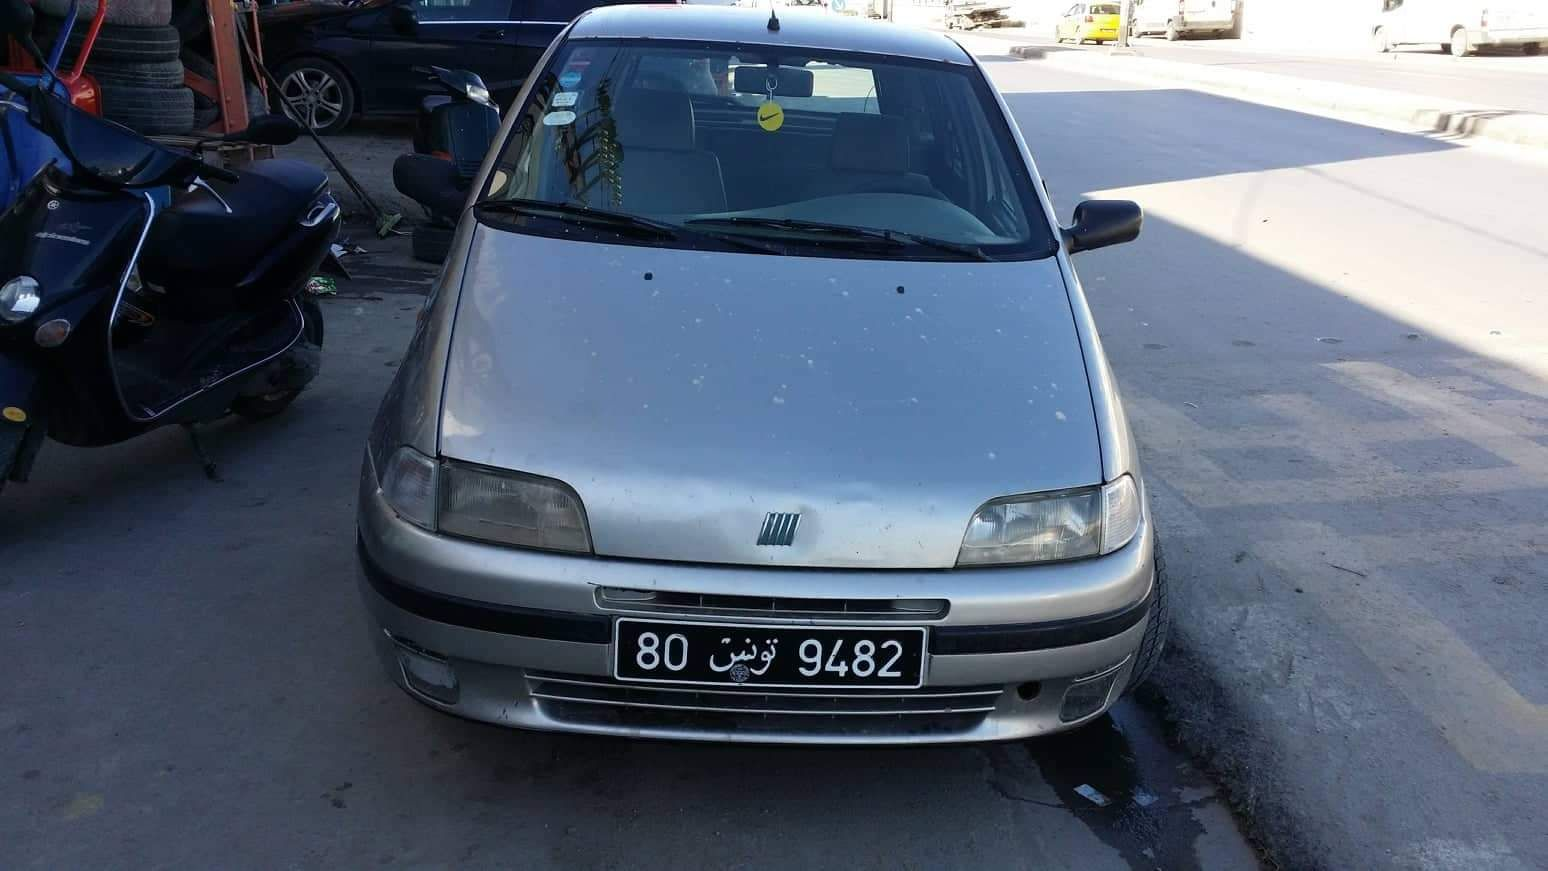LP: (613, 615, 925, 692)
